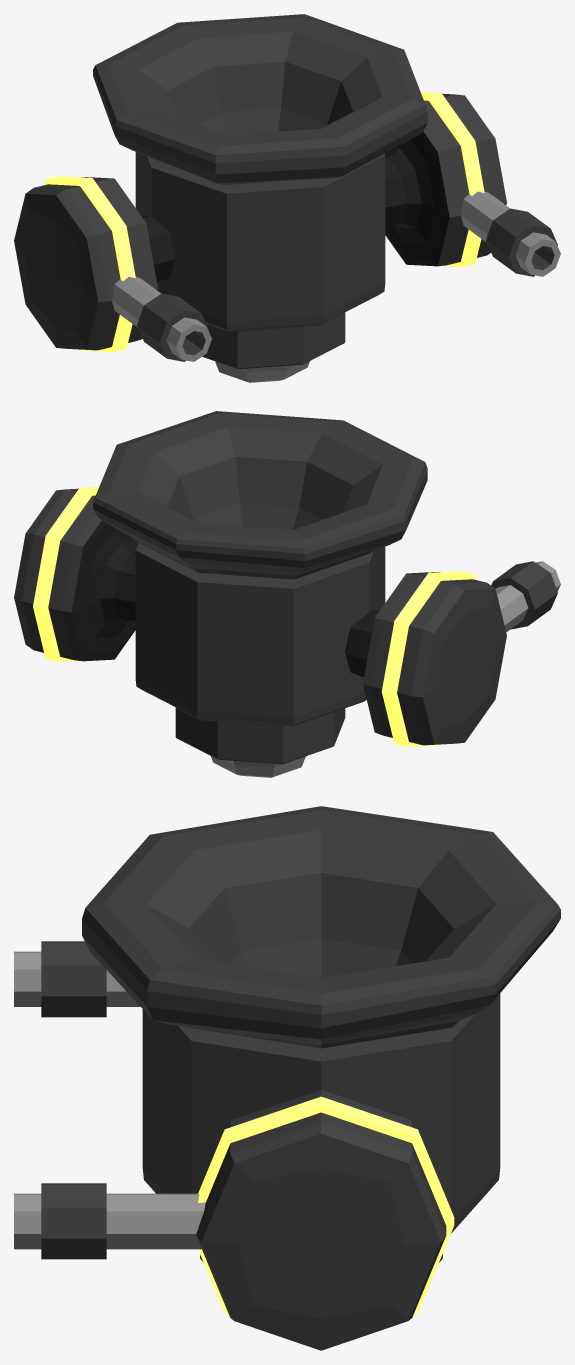
Rendered from ufo_drone.glb.
3 views of the same model, one above another, from view 1: azimuth 30°, elevation 25°; view 2: azimuth 150°, elevation 25°; view 3: azimuth 270°, elevation 25° (orthographic). The views are drawn at different scales.
Visible parts, largest first — view 1: Cockpit, Turrets; view 2: Cockpit, Turrets; view 3: Cockpit, Turrets.
Part boxes in pixels (left/top/right/bottom): Cockpit: left=93, top=14, right=427, bottom=382; Turrets: left=14, top=91, right=560, bottom=361; Cockpit: left=93, top=411, right=427, bottom=777; Turrets: left=14, top=486, right=560, bottom=746; Cockpit: left=82, top=806, right=560, bottom=1262; Turrets: left=14, top=941, right=454, bottom=1350.
Bounding box in the file's own units: 2.35 × 1.55 × 1.9.
